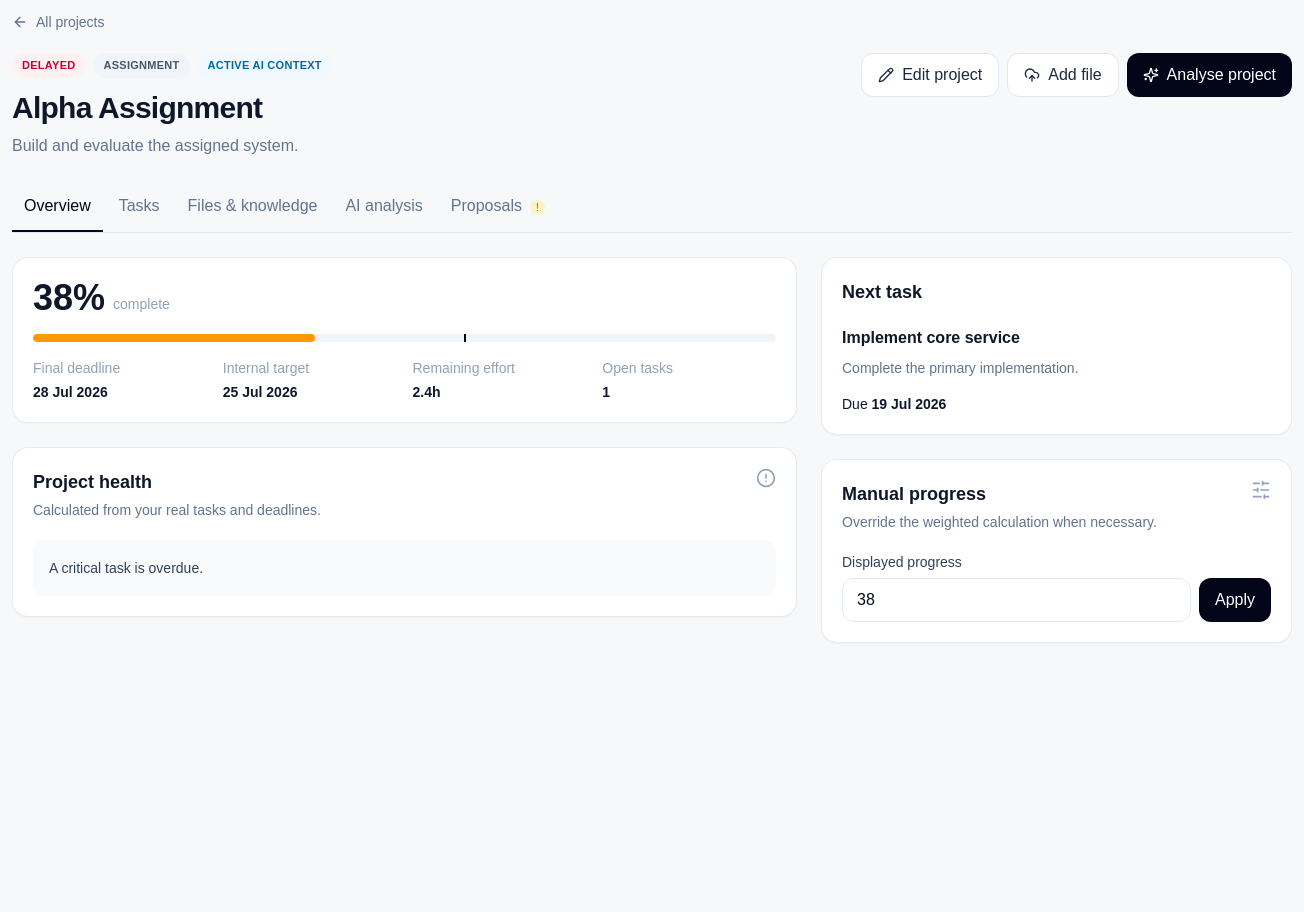
it: Project workflows › persists task status and proposal approval
Step 1. Click the button "Tasks" → click(139, 206), box 107,182 -> 172,232
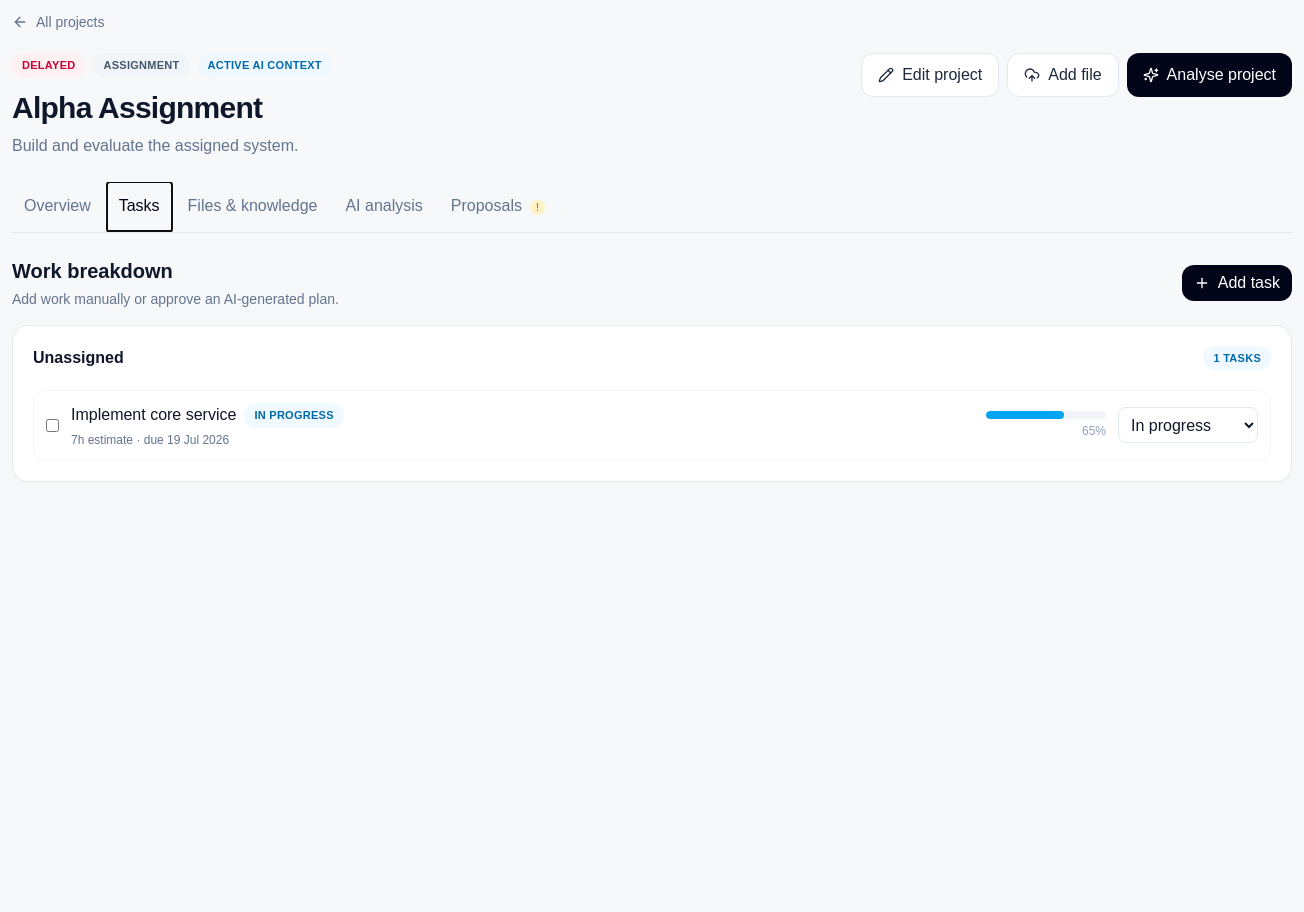
Step 2. Select "Completed" in the dropdown named "Update Implement core service status" → (1188, 425), box 1118,407 -> 1258,443
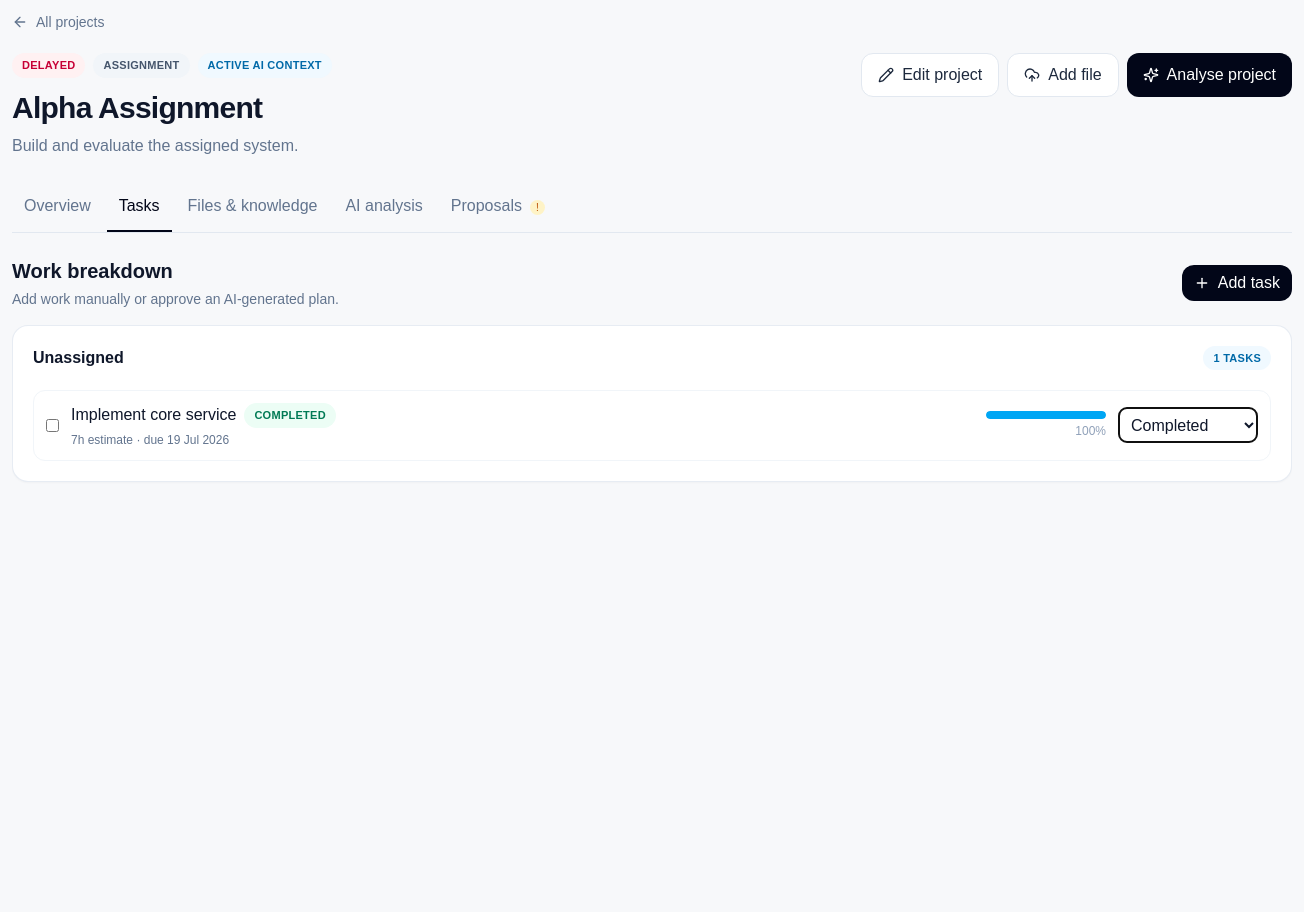
Step 3. Click the button "Proposals!" → click(498, 206), box 439,182 -> 557,232
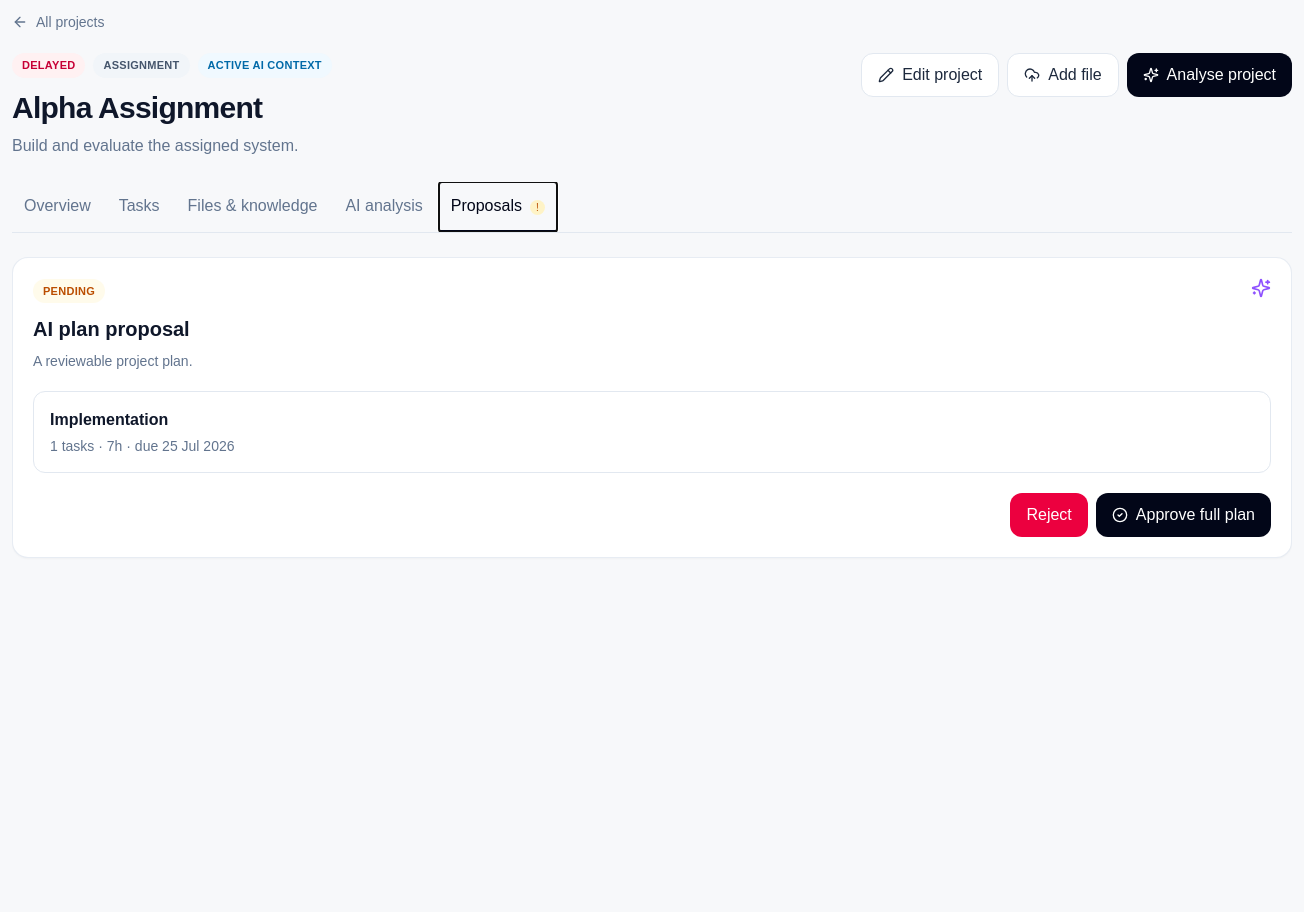
Step 4. Click the button "Approve full plan" → click(1183, 515), box 1096,493 -> 1271,537
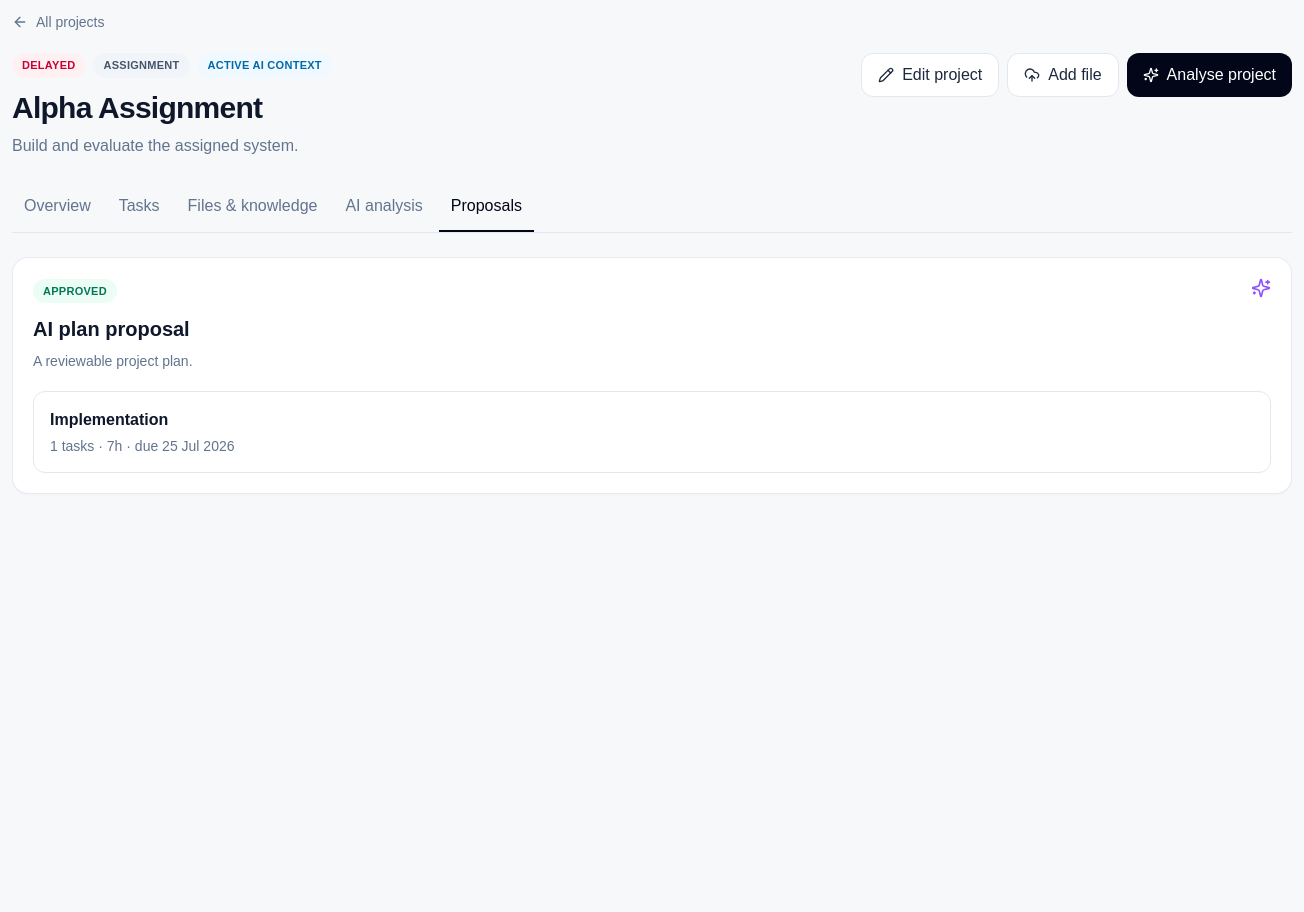
Expected: the text "approved" is shown, 33,278 -> 117,303
